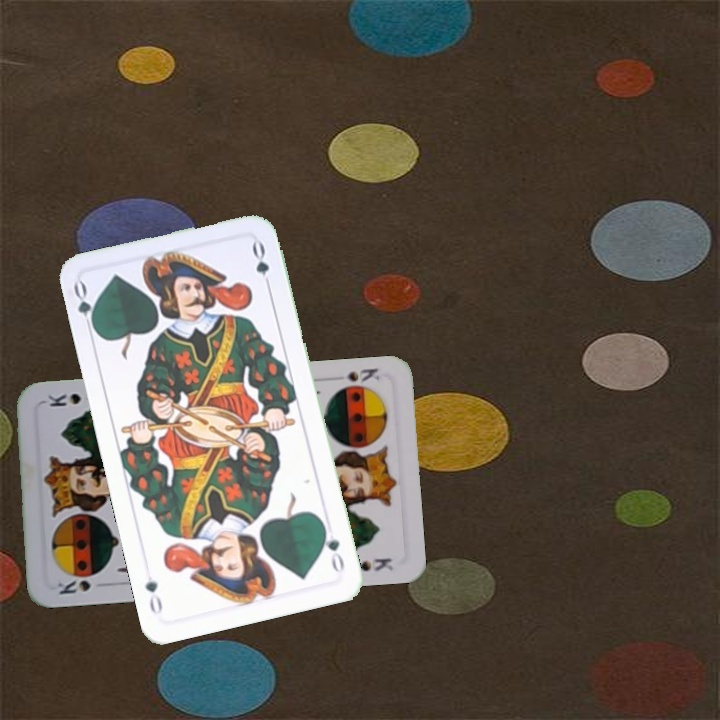GO: (69, 278, 100, 337), (318, 519, 347, 575)
SK: (331, 364, 382, 393), (53, 576, 94, 597)
